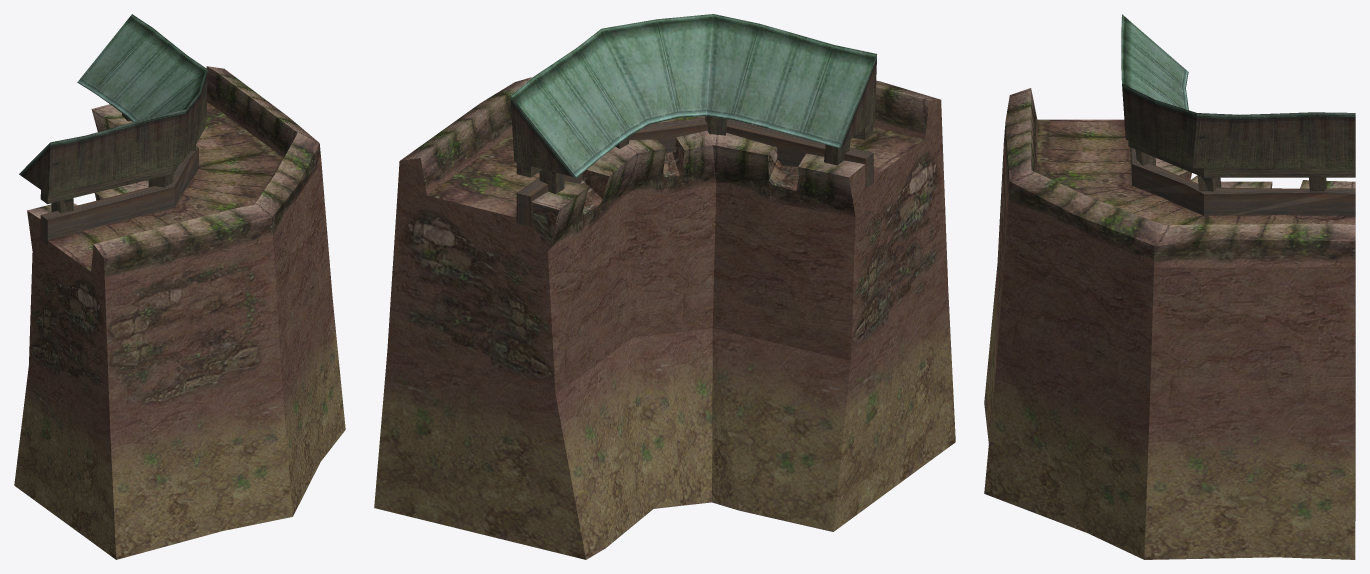
Rendered from C1SMWA10CB_H.obj.
3 renders of one model, left to right at view 1: azimuth 30°, elevation 25°; view 2: azimuth 150°, elevation 25°; view 3: azimuth 270°, elevation 25°, orthographic. The views are drawn at different scales.
Visible parts, largest first — view 1: Node 0; view 2: Node 0; view 3: Node 0.
Boxes of the visible parts, x1,y1,x2,y2 form: Node 0: [14, 14, 345, 559]; Node 0: [374, 14, 955, 559]; Node 0: [984, 14, 1355, 559].
Bounding box in the file's own units: 10.63 × 12.31 × 10.63.
4 materials, 4 textured.
